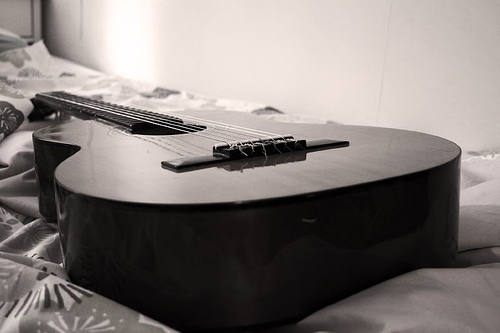guitar: (28, 90, 464, 331)
